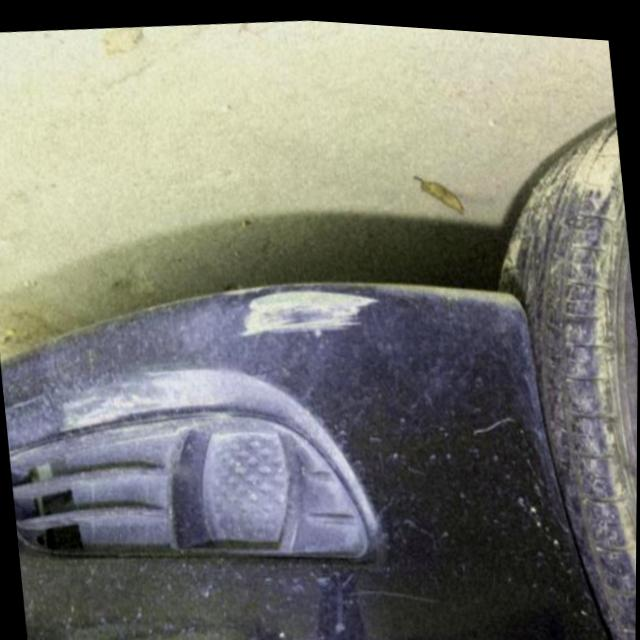Scratch: (233, 287, 380, 343)
